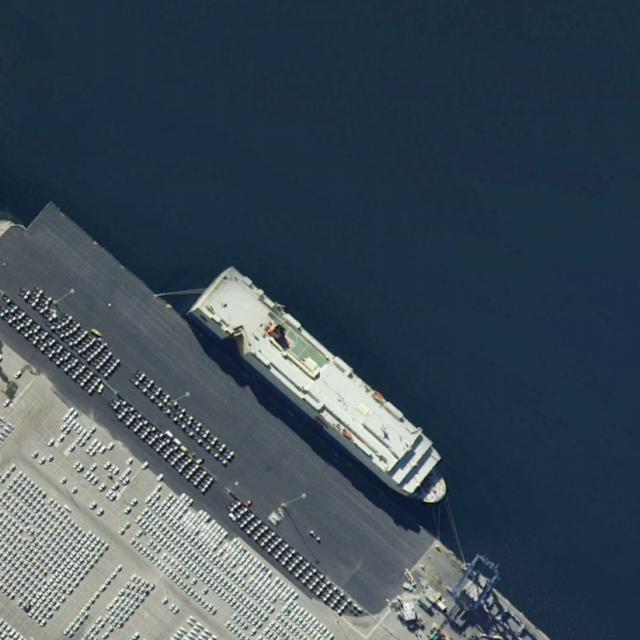RoRo: (188, 261, 467, 520)
